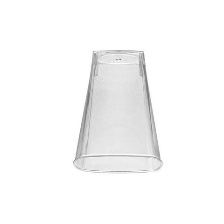glass: (70, 32, 172, 178)
